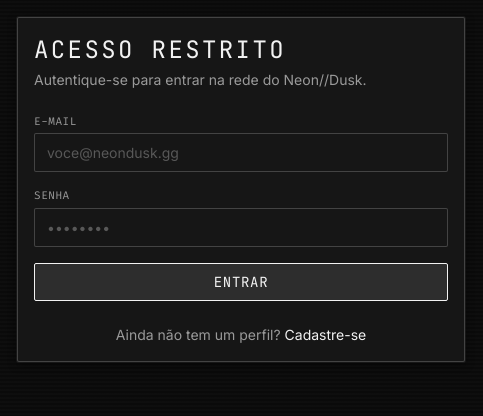
Scenario: LoginView › should show the error message and stay on the page when login fails
Step 1. Type "fixer@neondusk.gg" into the field with placeholder "voce@neondusk.gg" → coordinates (241, 153), box [34,133,448,172]
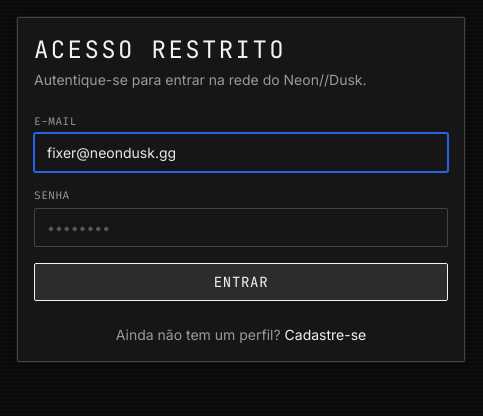
Step 2. Type "wrong" into the password field with placeholder "••••••••" → coordinates (241, 227), box [34,208,448,247]
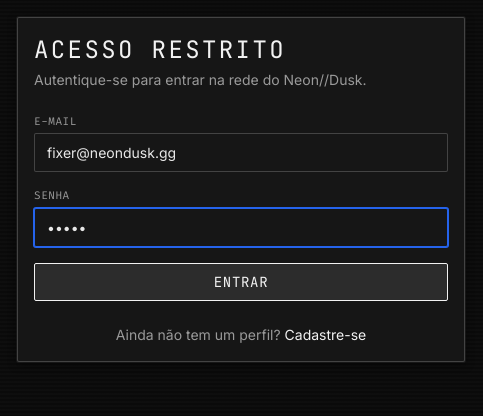
Step 3. Click the button "ENTRAR" → coordinates (241, 282), box [34,263,448,301]
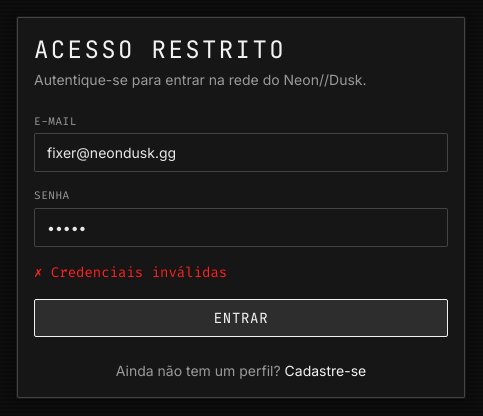
Expected: the button "ENTRAR" is shown, [34,299,448,337]
Now the message shows "Credenciais inválidas", box [51,263,227,282]
